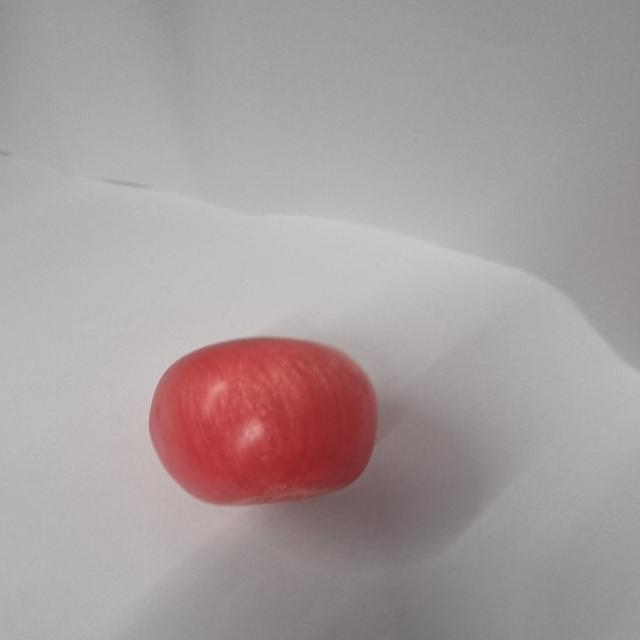apple: (147, 336, 376, 506)
